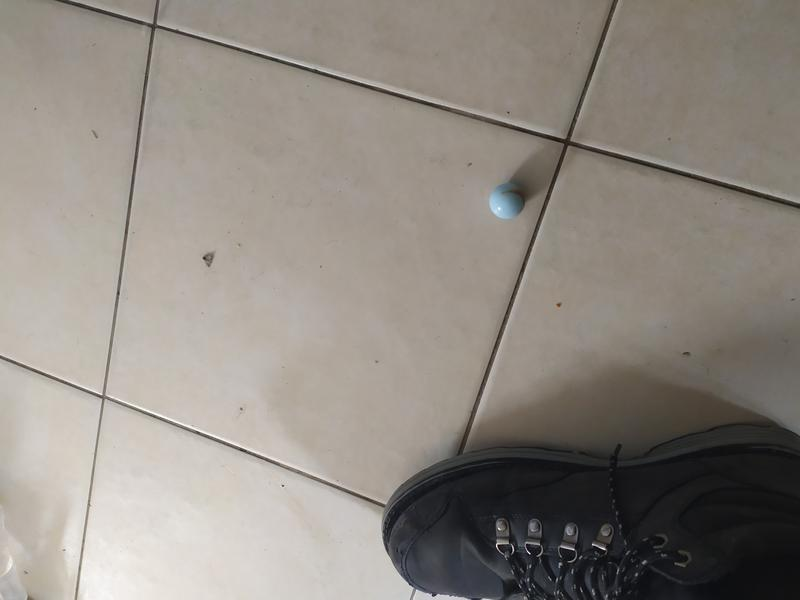Warning: (487, 180, 528, 222)
